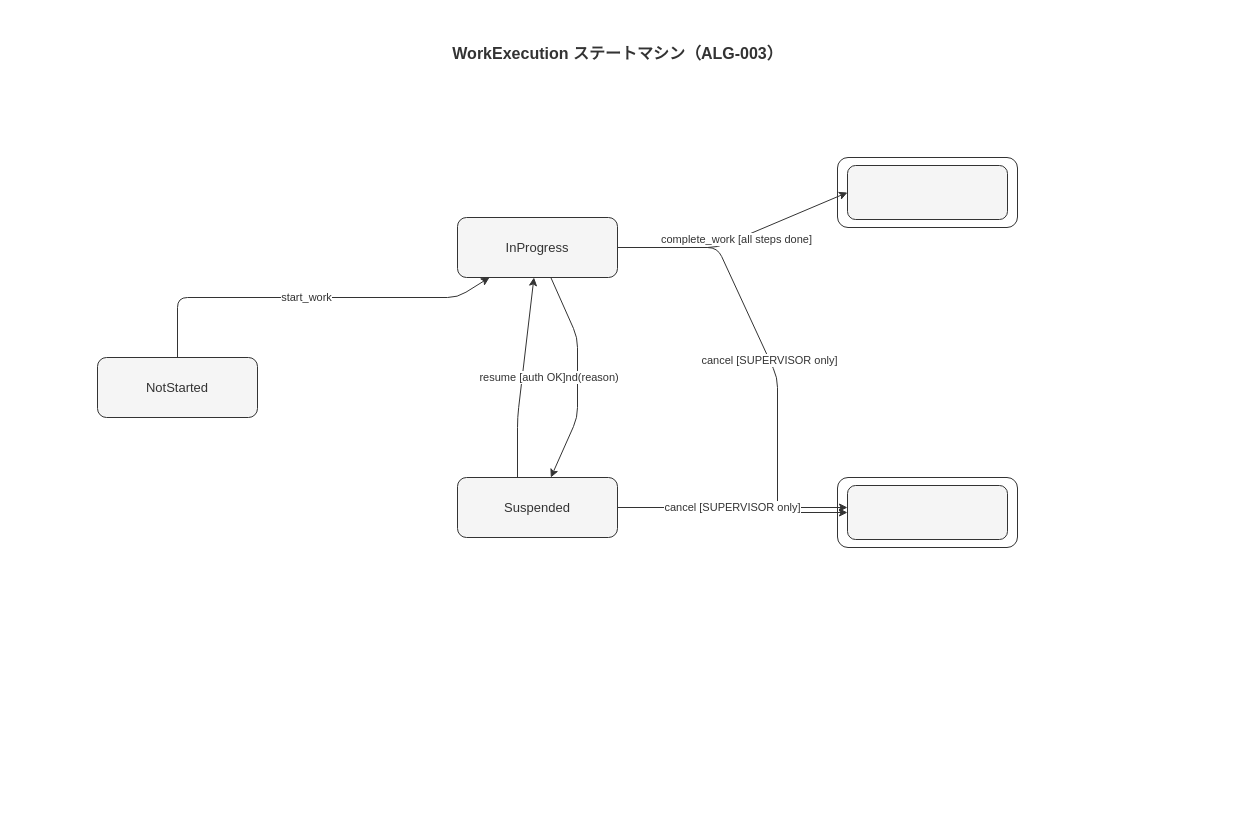
This 1234x834 diagram has some shape labels left out. Each missing label, with the centre of its shape:
Cancelled: point (927, 512)
Completed: point (927, 192)
